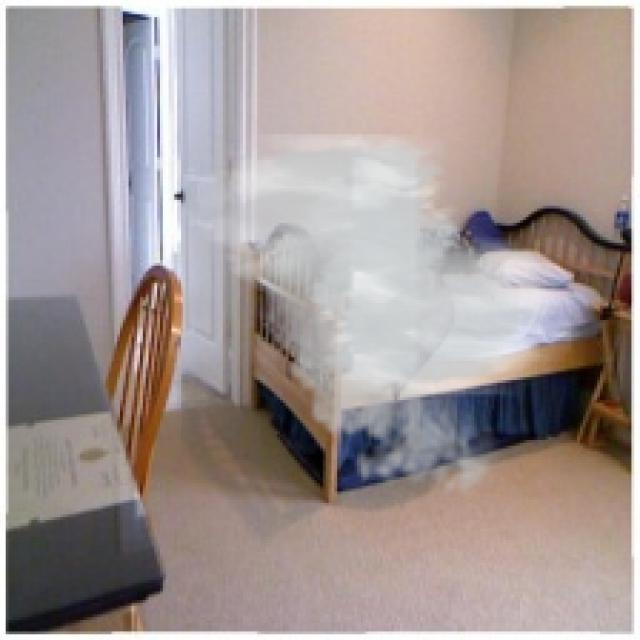Smoke: (197, 134, 572, 506)
